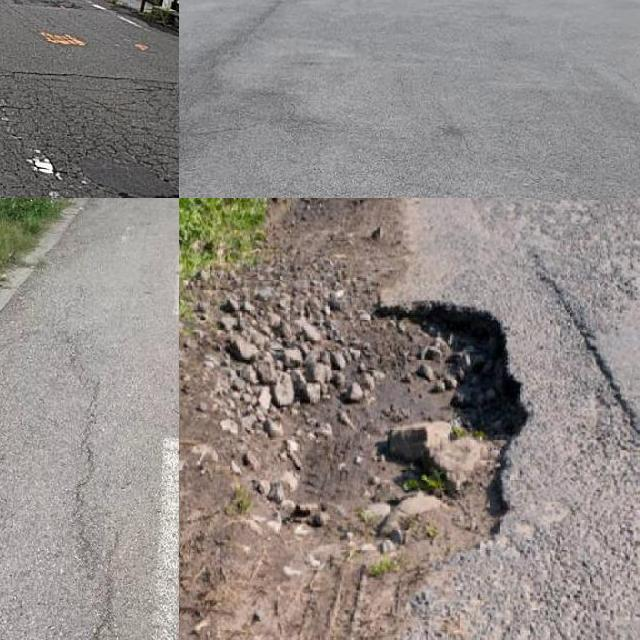Memanjang: (52, 351, 131, 640), (179, 0, 299, 166)
Pinggir: (325, 287, 547, 611)
